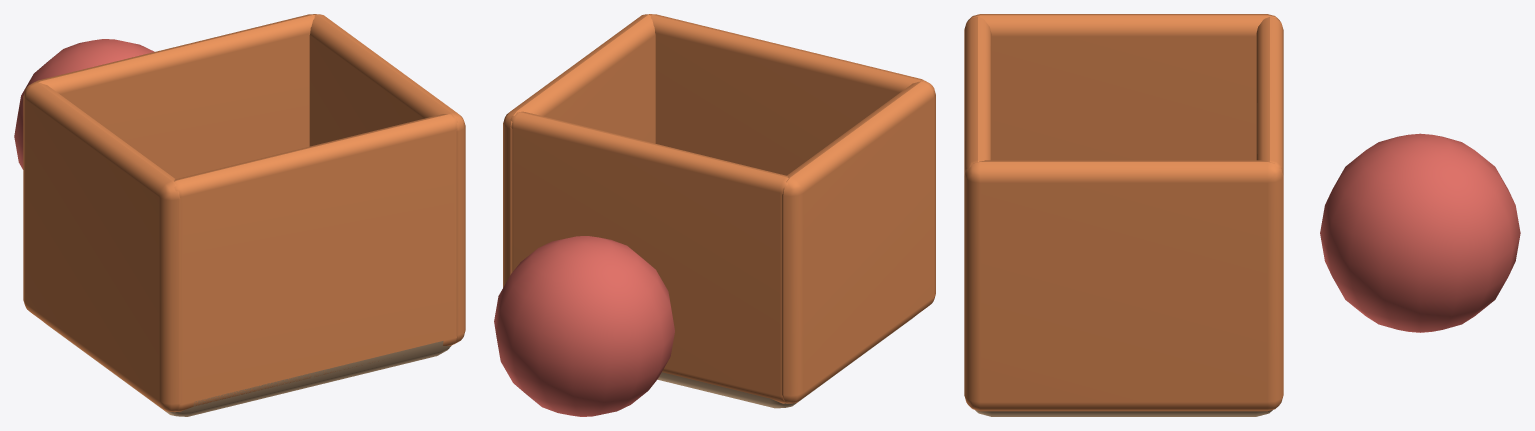
The model's file is ava-position-behind.glb.
3 views of the same model, side by side, from view 1: azimuth 30°, elevation 25°; view 2: azimuth 150°, elevation 25°; view 3: azimuth 270°, elevation 25° (orthographic). The views are drawn at different scales.
Parts seen in each view (by area): view 1: box side.006, box side.004, box side.007, box side.005, box floor.001, location ball; view 2: box side.007, box side.004, box side.006, location ball, box side.005, box floor.001; view 3: box side.005, box side.004, location ball, box side.006, box side.007, box floor.001.
Part boxes in pixels (left/top/right/bottom): box side.006: left=174, top=114, right=457, bottom=411; box side.004: left=23, top=82, right=180, bottom=412; box side.007: left=35, top=14, right=314, bottom=178; box side.005: left=309, top=14, right=465, bottom=343; box floor.001: left=44, top=322, right=450, bottom=416; location ball: left=14, top=39, right=154, bottom=169; box side.007: left=510, top=111, right=788, bottom=403; box side.004: left=782, top=80, right=935, bottom=403; box side.006: left=650, top=14, right=923, bottom=175; location ball: left=494, top=236, right=674, bottom=416; box side.005: left=503, top=14, right=655, bottom=287; box floor.001: left=657, top=316, right=914, bottom=408; box side.005: left=964, top=160, right=1283, bottom=411; box side.004: left=966, top=14, right=1280, bottom=160; location ball: left=1320, top=133, right=1520, bottom=332; box side.006: left=964, top=17, right=991, bottom=175; box side.007: left=1256, top=17, right=1283, bottom=175; box floor.001: left=975, top=410, right=1272, bottom=416.
Bounding box in the file's own units: 0.83 × 0.63 × 1.22.
